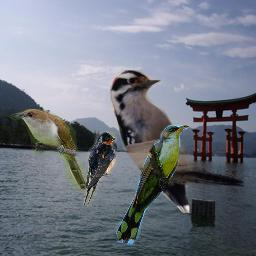Cuckoo: (116, 125, 189, 245), (10, 109, 86, 191)
Swallow: (82, 131, 117, 206)
Woodpecker: (110, 70, 244, 213)
